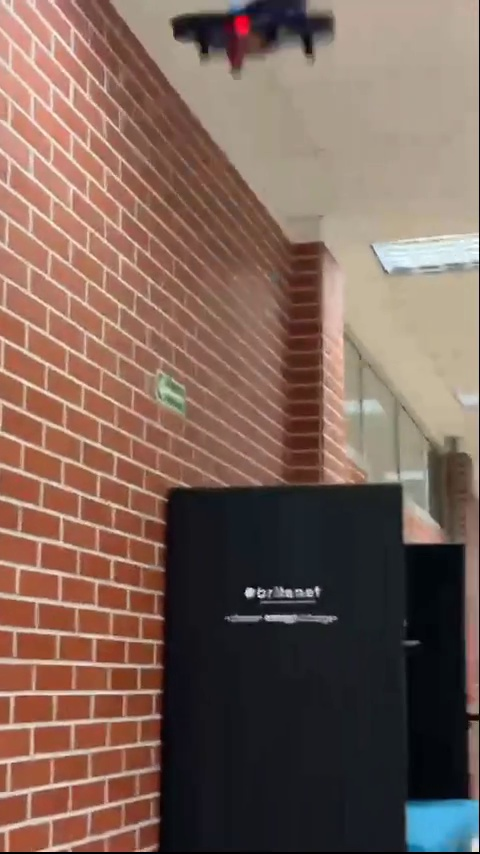drone: (172, 0, 339, 68)
